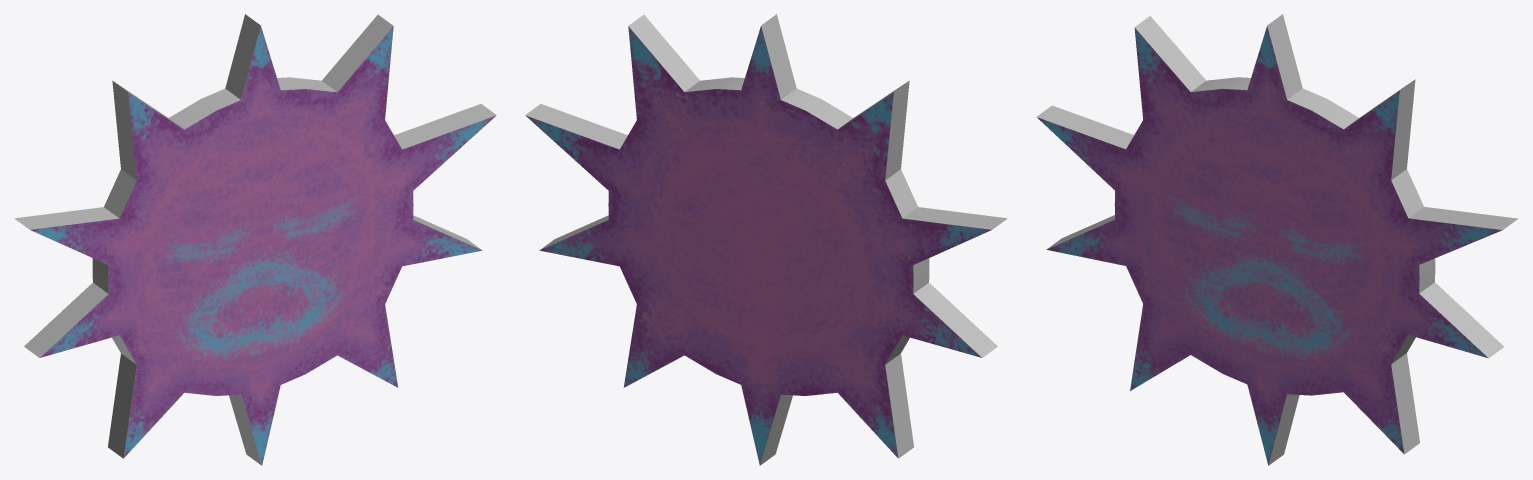
Rendered from urchin_01.fbx.
The picture shows the model from 3 angles, left to right: view 1: azimuth 30°, elevation 25°; view 2: azimuth 150°, elevation 25°; view 3: azimuth 330°, elevation 25°; orthographic projection.
Parts seen in each view (by area): view 1: Urchin_01; view 2: Urchin_01; view 3: Urchin_01.
Boxes of the visible parts, left/top/right/bottom form: Urchin_01: left=14, top=14, right=496, bottom=465; Urchin_01: left=525, top=14, right=1007, bottom=465; Urchin_01: left=1037, top=14, right=1517, bottom=465.
Size of the model in its own units: 25.78 by 23.24 by 1.51.
